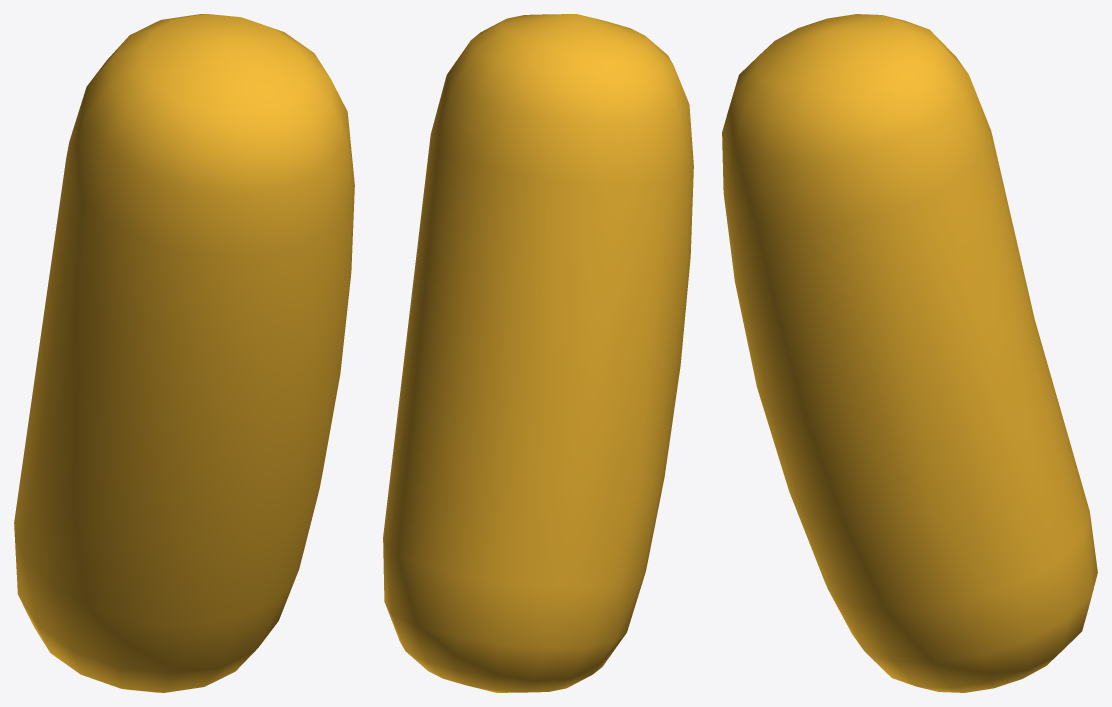
File: nervoso-red-nucleus-r.glb
3 views of the same model, side by side, from view 1: azimuth 30°, elevation 25°; view 2: azimuth 150°, elevation 25°; view 3: azimuth 270°, elevation 25° (orthographic). The views are drawn at different scales.
Parts seen in each view (by area): view 1: Red nucleus.r; view 2: Red nucleus.r; view 3: Red nucleus.r.
Boxes of the visible parts, <box> form: Red nucleus.r: <box>14,14,354,692</box>; Red nucleus.r: <box>383,14,693,692</box>; Red nucleus.r: <box>722,14,1097,692</box>.
Size of the model in its own units: 0.00514 by 0.0129 by 0.00681.
